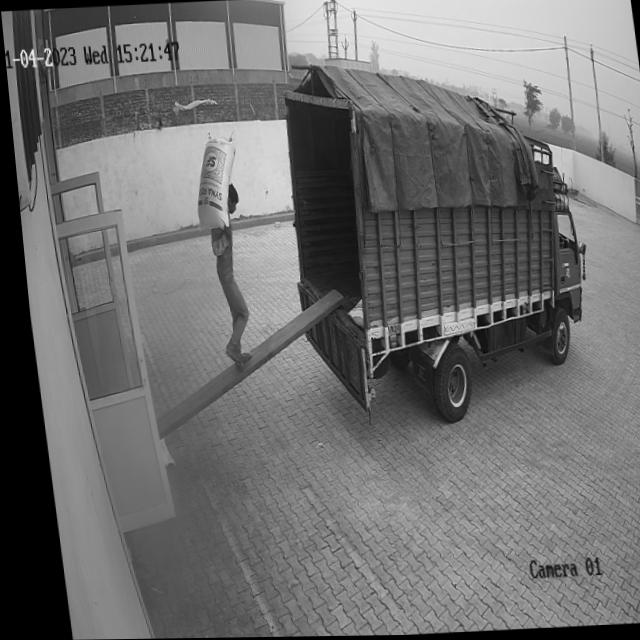sack: (183, 131, 241, 230)
